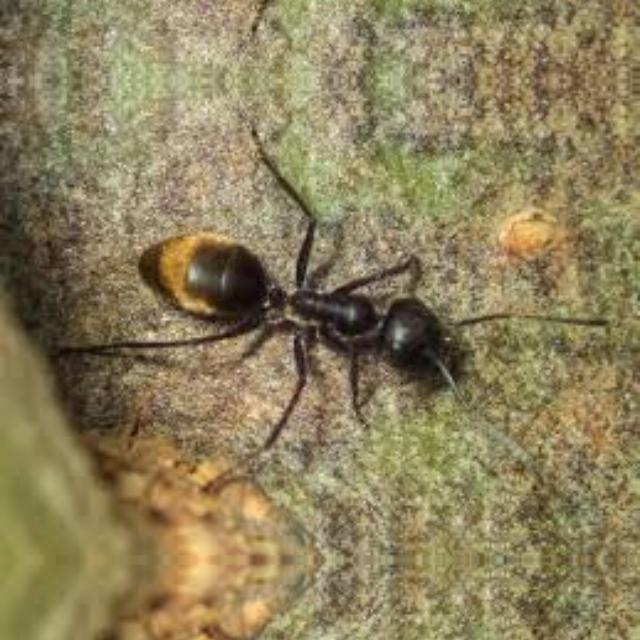Colobopsis: (120, 212, 502, 406)
